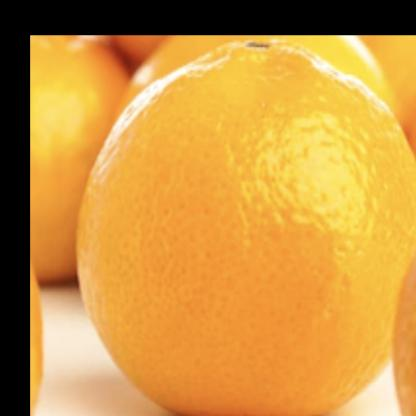fresh: (80, 39, 416, 416)
